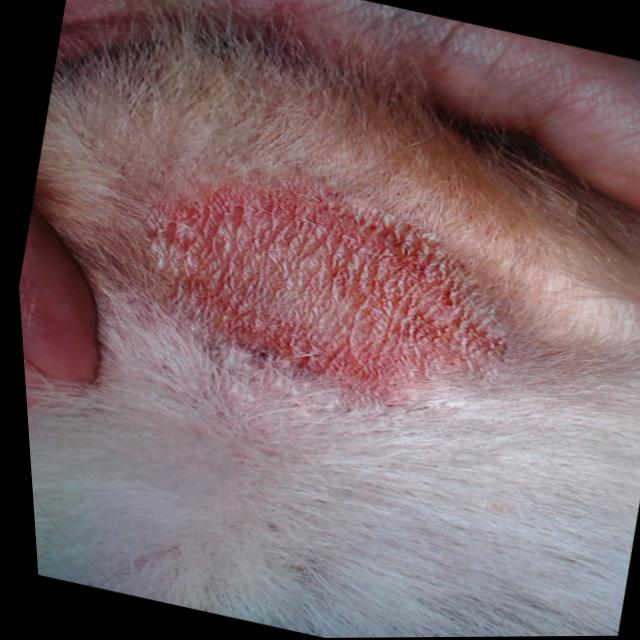ringworm: (115, 156, 516, 420)
